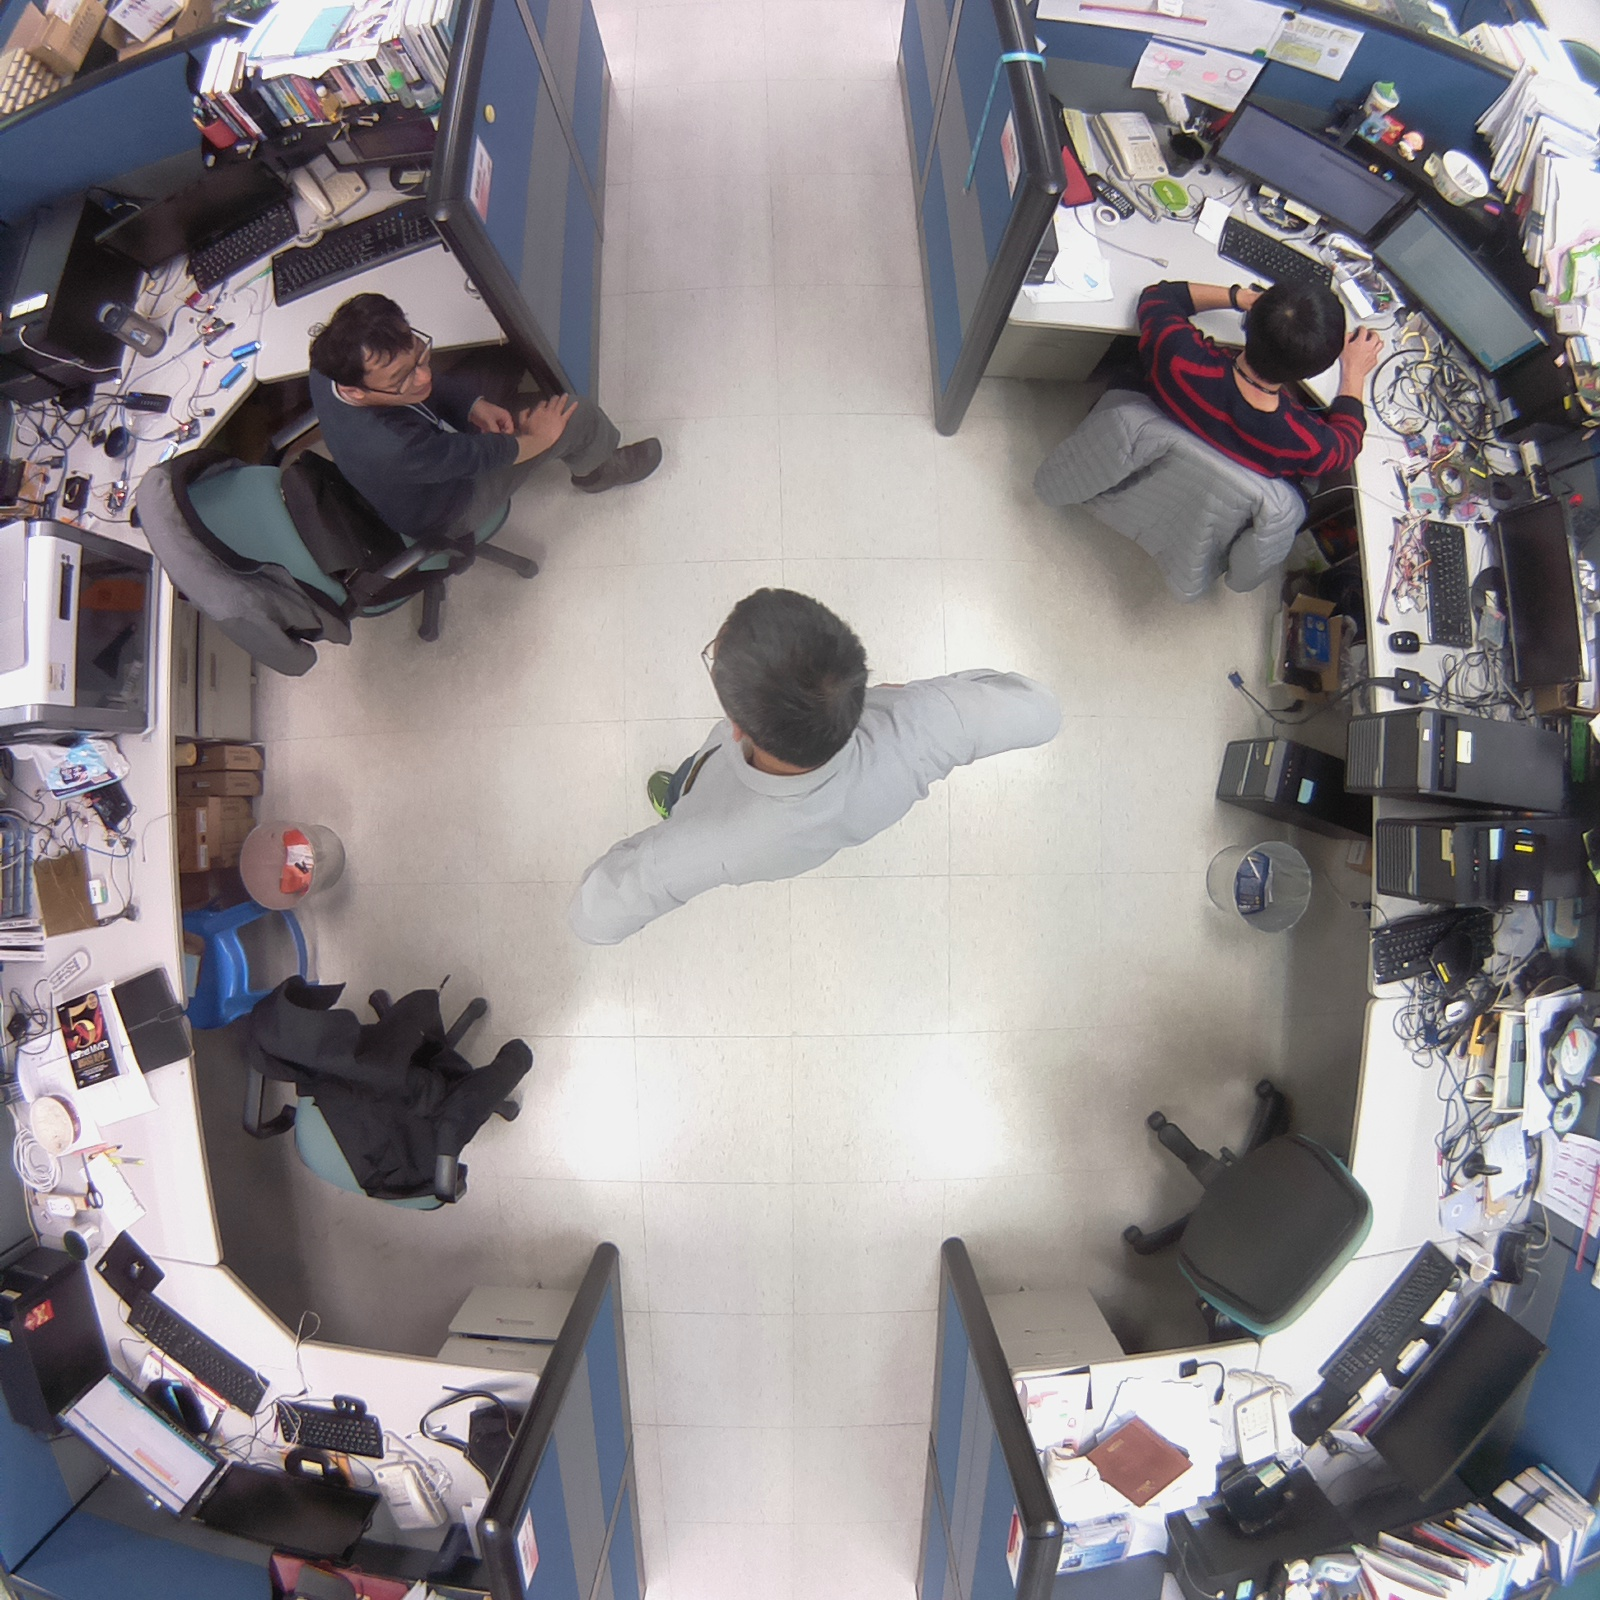chair: (224, 960, 560, 1232), (1101, 1060, 1386, 1352)
head: (697, 576, 889, 782), (308, 287, 444, 412), (1240, 274, 1351, 391)
sitting: (124, 289, 670, 691), (1027, 267, 1375, 611)
standing: (601, 571, 1047, 924)
